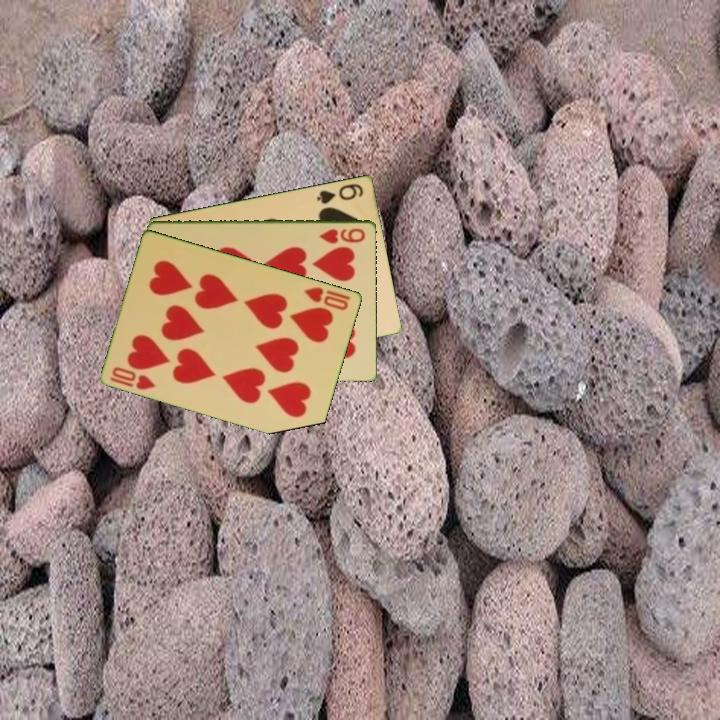10h: (107, 363, 159, 393), (301, 283, 352, 313)
6s: (313, 180, 366, 206)
9h: (316, 224, 368, 246)
